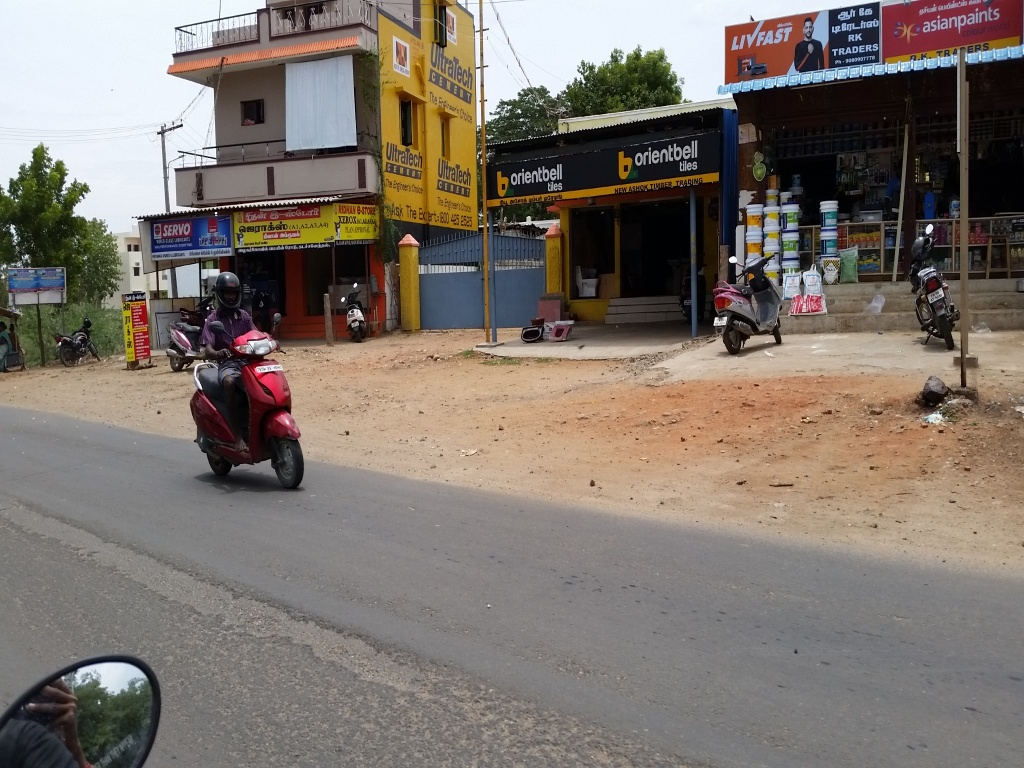biker: (173, 238, 325, 506)
helmet: (202, 265, 253, 323)
